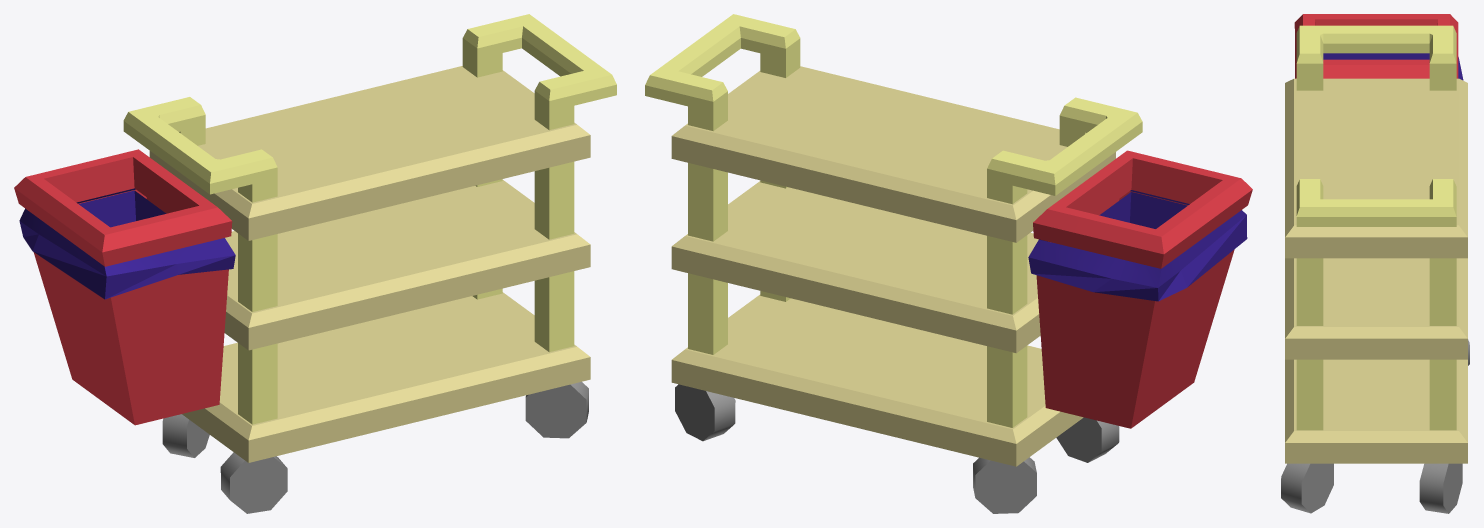
The model's file is Wagen.FBX.
3 views of the same model, side by side, from view 1: azimuth 30°, elevation 25°; view 2: azimuth 150°, elevation 25°; view 3: azimuth 270°, elevation 25° (orthographic). The views are drawn at different scales.
Parts seen in each view (by area): view 1: Geschirrwagen; view 2: Geschirrwagen; view 3: Geschirrwagen.
Boxes of the visible parts, box(x1,y1,x2,y2) form: Geschirrwagen: box(14, 14, 616, 513); Geschirrwagen: box(645, 14, 1252, 513); Geschirrwagen: box(1281, 14, 1469, 513).
Size of the model in its own units: 60.54 by 38.93 by 20.65.
